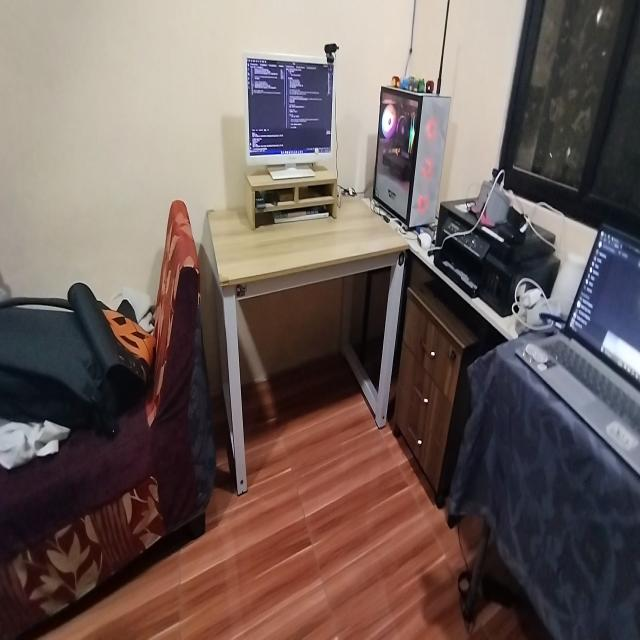table: (207, 190, 412, 489)
